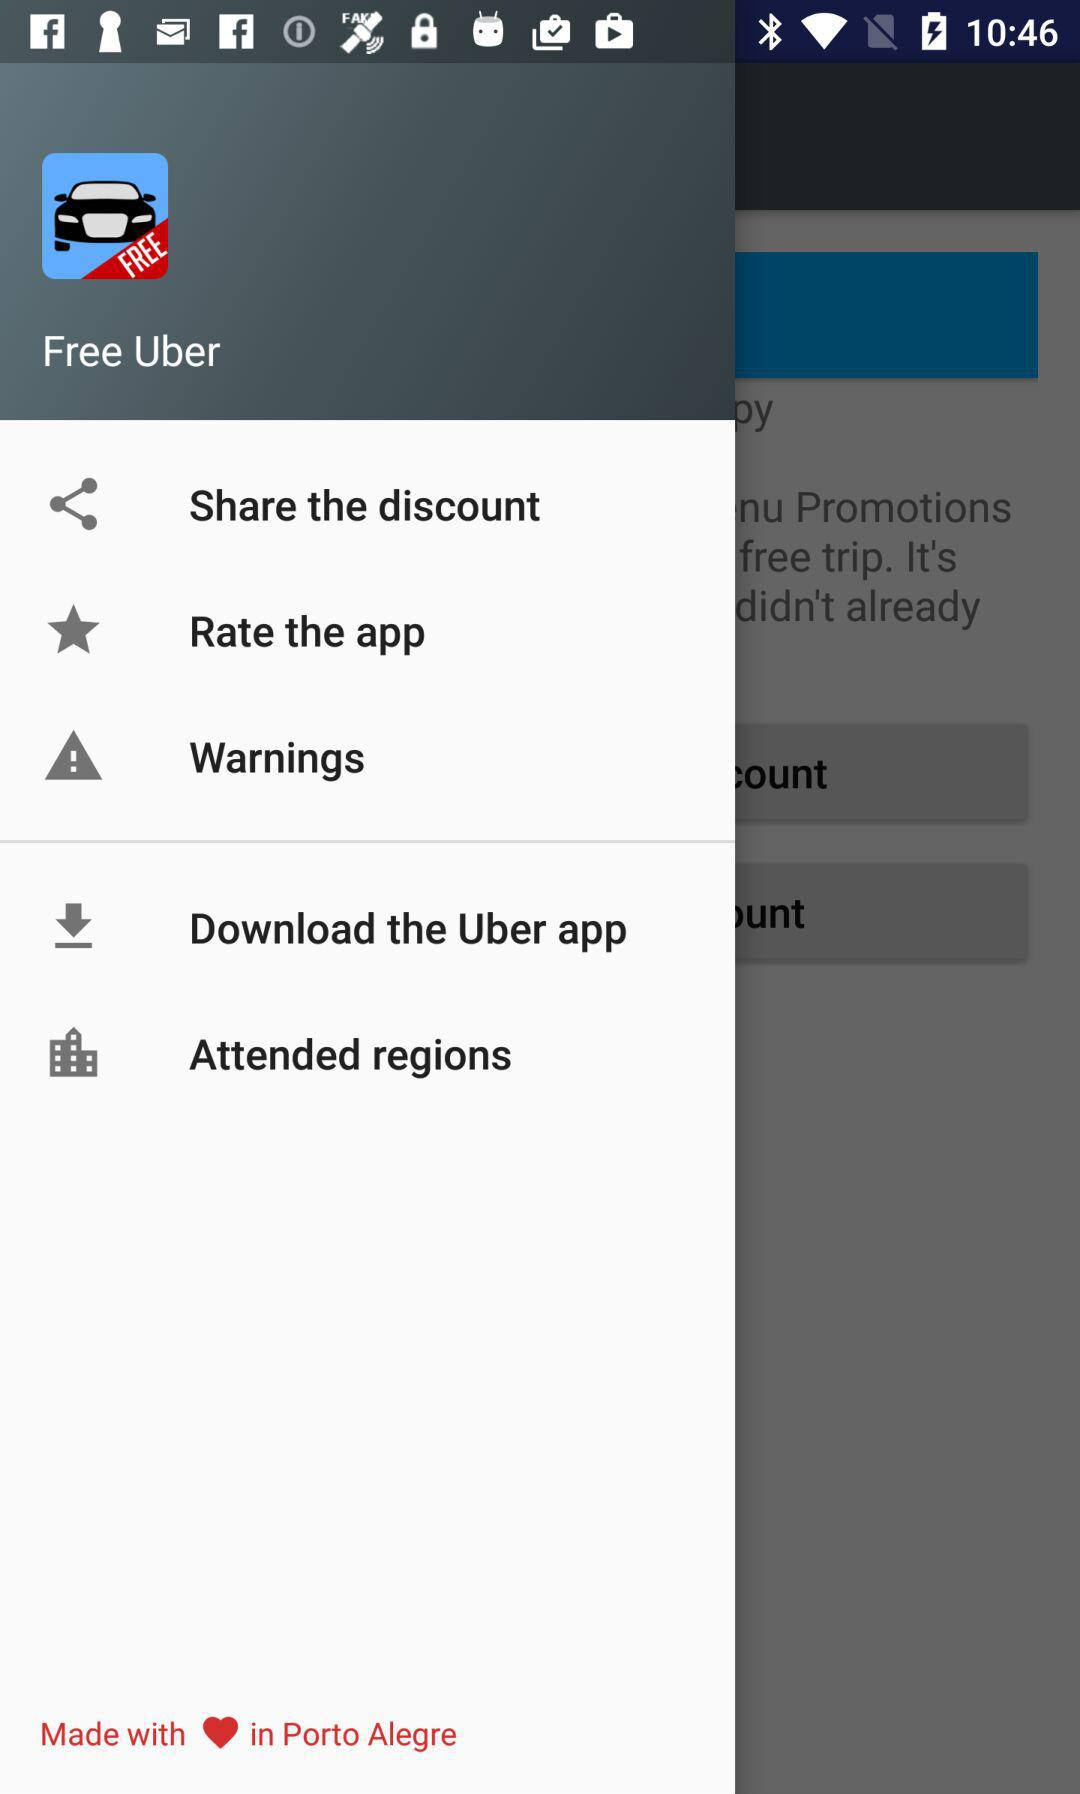Drawer: (1, 65, 735, 1794)
Icon: (45, 729, 104, 780), (47, 604, 101, 655), (50, 478, 99, 532), (55, 903, 94, 950), (202, 1716, 240, 1750)
Image: (42, 152, 170, 281), (50, 1026, 99, 1078)
Text: (191, 910, 628, 955), (190, 1035, 512, 1082), (191, 487, 541, 524), (191, 613, 427, 657), (190, 741, 366, 783), (251, 1720, 457, 1753), (44, 334, 222, 369), (42, 1720, 186, 1747)
UpperTaskBar: (1, 1, 1080, 64)
